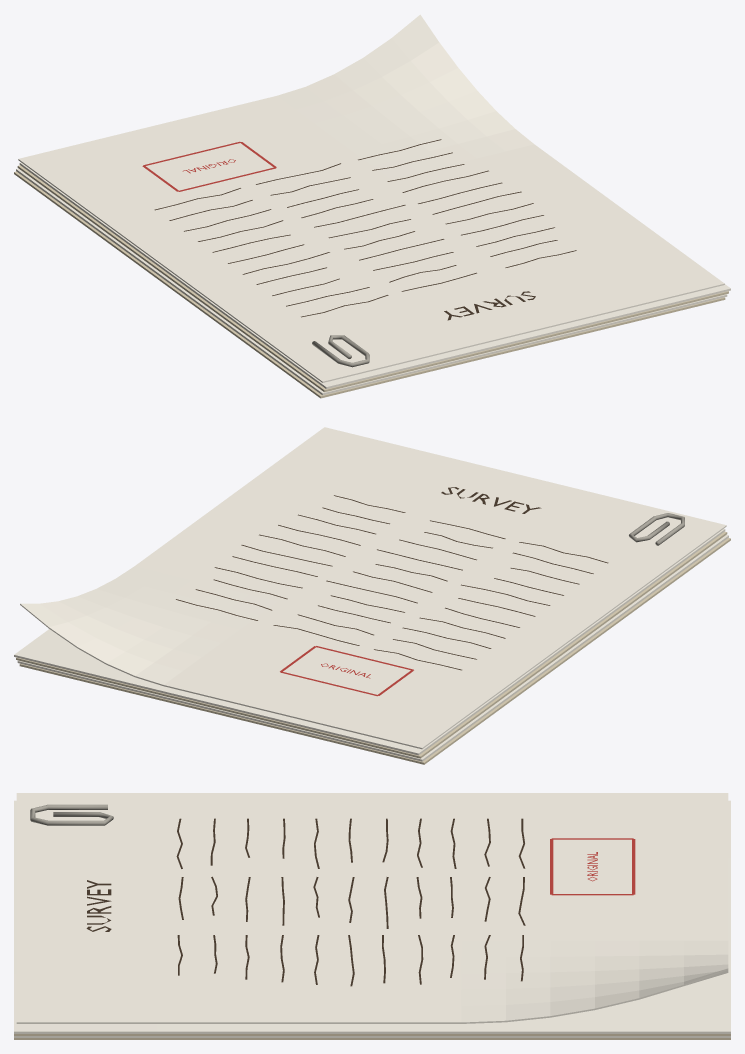
The model's file is Exhibit_3_survey.fbx.
3 views of the same model, one above another, from view 1: azimuth 30°, elevation 25°; view 2: azimuth 150°, elevation 25°; view 3: azimuth 270°, elevation 25° (orthographic). The views are drawn at different scales.
Visible parts, largest first — view 1: Exhibit_3_survey; view 2: Exhibit_3_survey; view 3: Exhibit_3_survey.
Part boxes in pixels (x1,y1,x2,y2): Exhibit_3_survey: (14, 14, 730, 398); Exhibit_3_survey: (14, 427, 730, 764); Exhibit_3_survey: (14, 793, 730, 1039).
Bounding box in the file's own units: 0.3245 × 0.42 × 0.0465.
